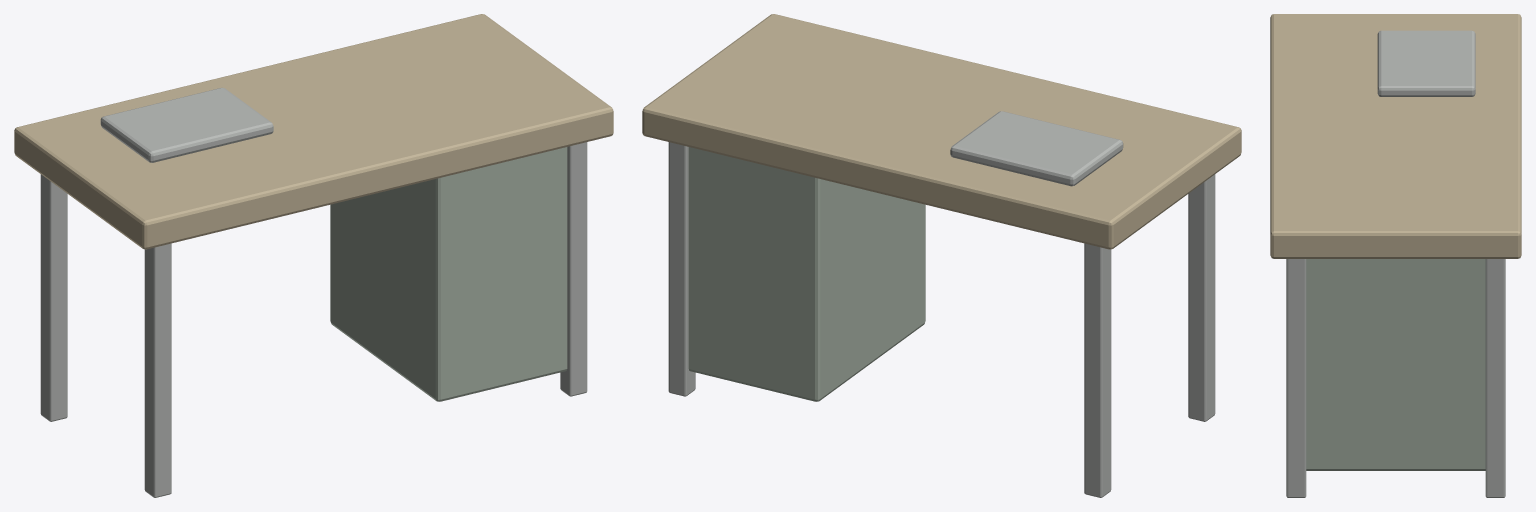
File: F1_InspectionCounter.fbx
The picture shows the model from 3 angles, left to right: view 1: azimuth 30°, elevation 25°; view 2: azimuth 150°, elevation 25°; view 3: azimuth 270°, elevation 25°; orthographic projection. The views are drawn at different scales.
Visible parts, largest first — view 1: F1_InspectionCounter_LOD0; view 2: F1_InspectionCounter_LOD0; view 3: F1_InspectionCounter_LOD0.
Boxes of the visible parts, x1=… form: F1_InspectionCounter_LOD0: x1=14, y1=14, x2=613, y2=497; F1_InspectionCounter_LOD0: x1=642, y1=14, x2=1241, y2=497; F1_InspectionCounter_LOD0: x1=1270, y1=14, x2=1521, y2=497.
Size of what is drawn, in the model's own units: 170 by 104 by 82.
